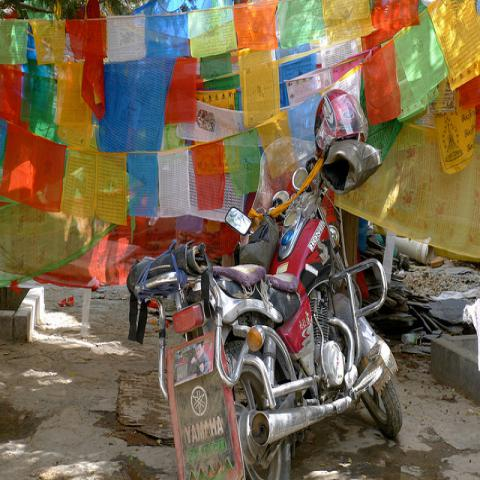motorcycle: (161, 136, 399, 479)
